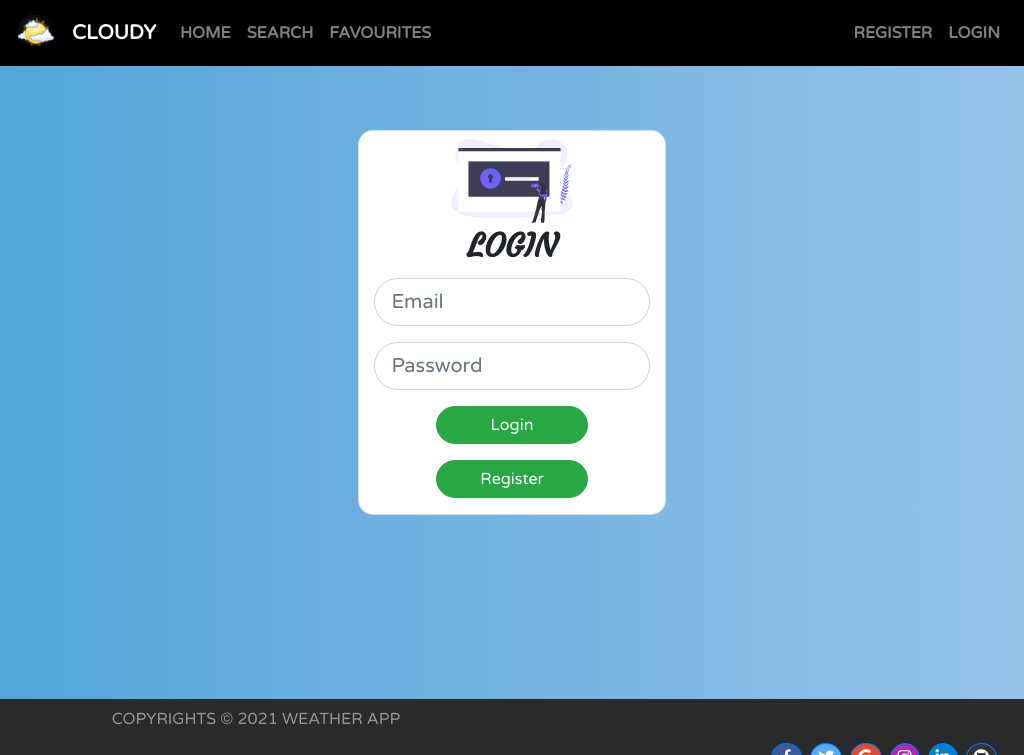
it: Check for login credentials › Check Empty Fields
This screenshot has width=1024, height=755.
Click the button with test id "login-login-btn" at {"x": 513, "y": 425}, box 436,406 -> 589,444
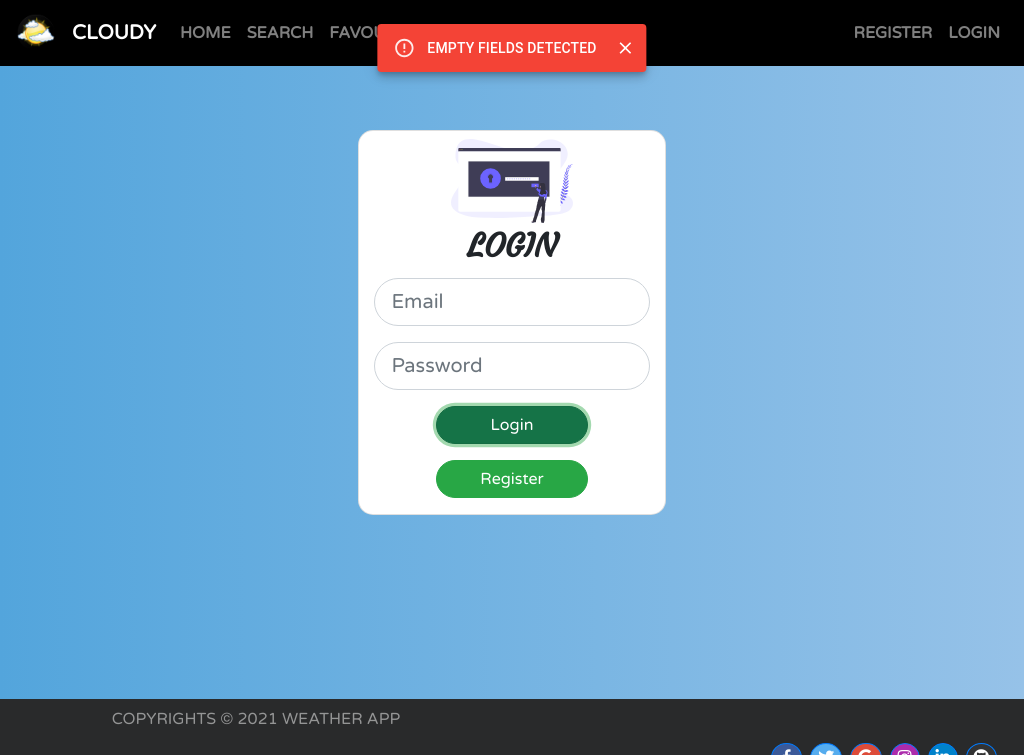
Result: the text "Empty Fields detected" is shown at 427,40 -> 597,56
